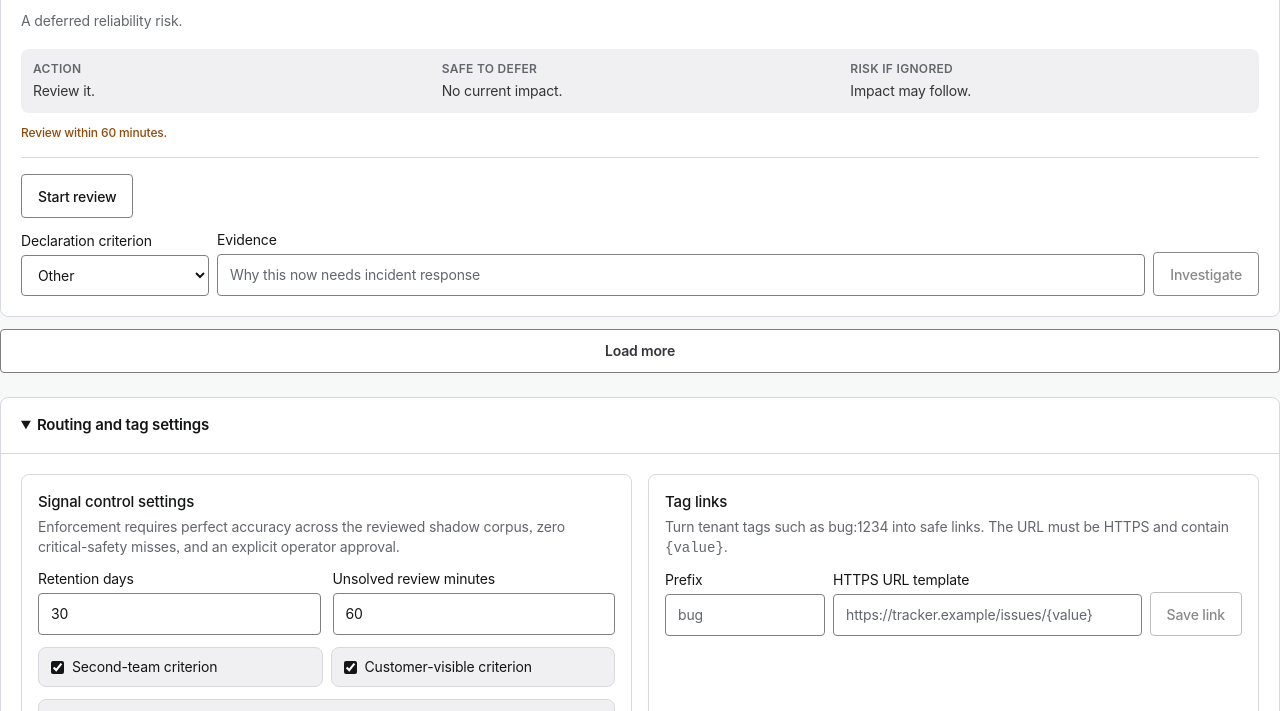
Test case: SignalsPanel › defaults to the ticket queue and appends older tickets with Load more
(page scrolled)
Click the button "Load more": x=640, y=351 [0, 329, 1279, 373]
(page scrolled)
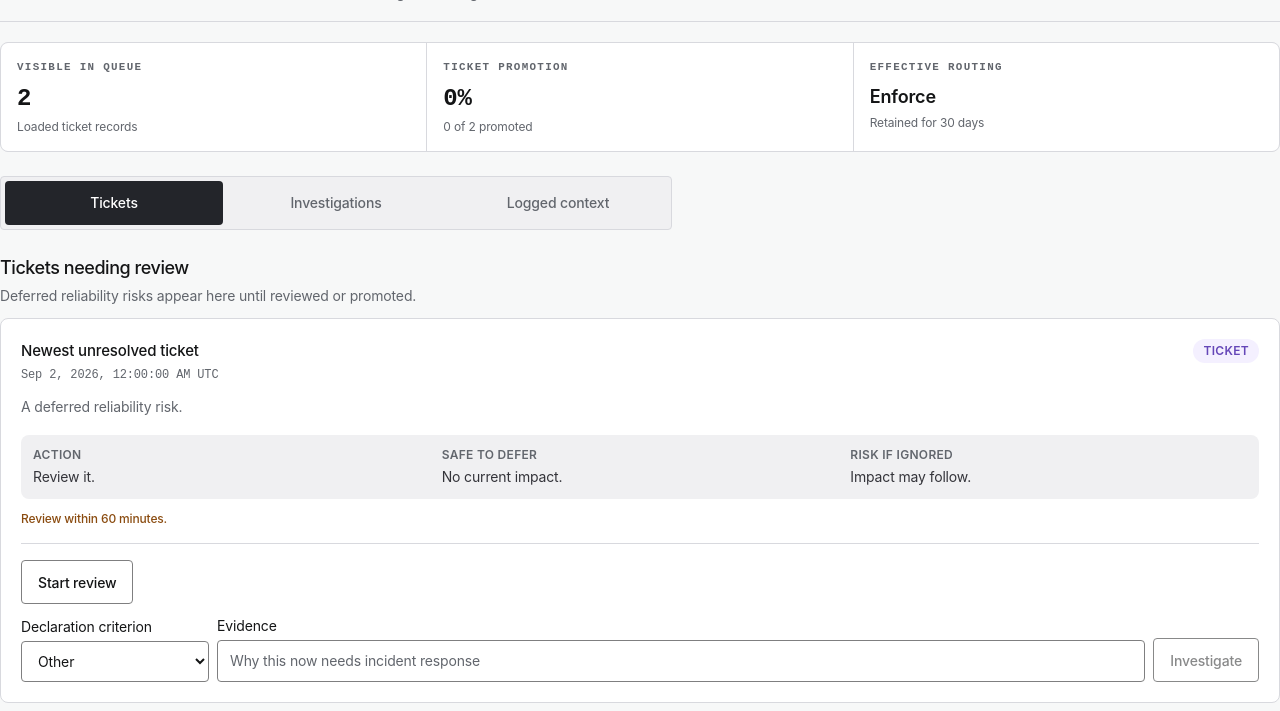
Expected: the heading "Newest unresolved ticket" is shown, [21, 339, 218, 363]
Now the button "Load more" is gone
